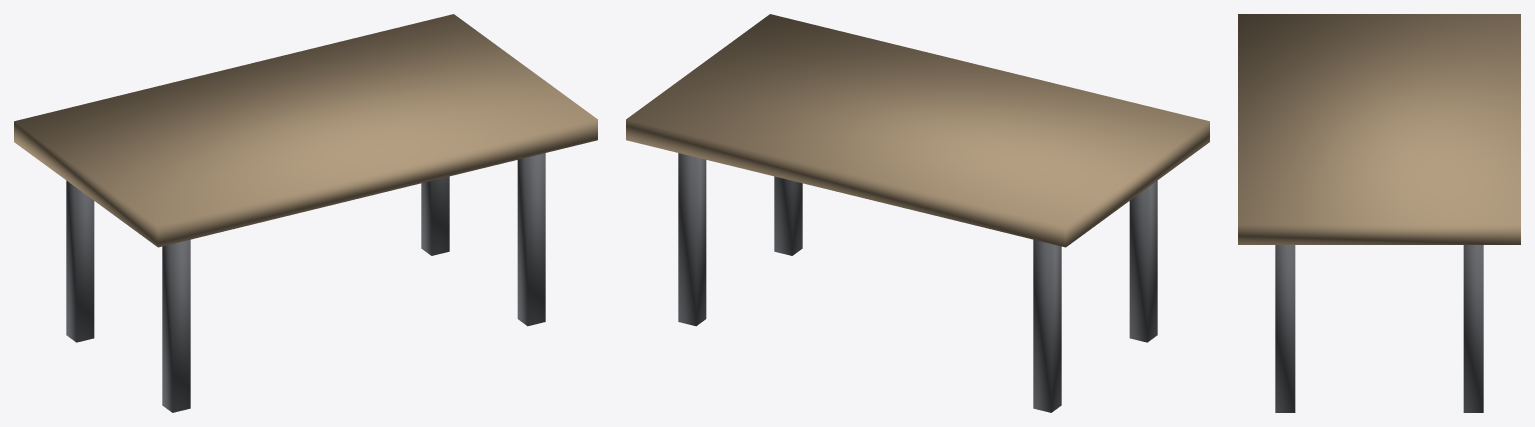
Rendered from dining_table__squat.glb.
The picture shows the model from 3 angles, left to right: view 1: azimuth 30°, elevation 25°; view 2: azimuth 150°, elevation 25°; view 3: azimuth 270°, elevation 25°; orthographic projection.
Parts seen in each view (by area): view 1: world; view 2: world; view 3: world.
Part boxes in pixels (x1,y1,x2,y2): world: [14, 14, 597, 412]; world: [626, 14, 1209, 412]; world: [1238, 14, 1520, 412].
Size of the model in its own units: 1.49 by 0.672 by 0.8424.
